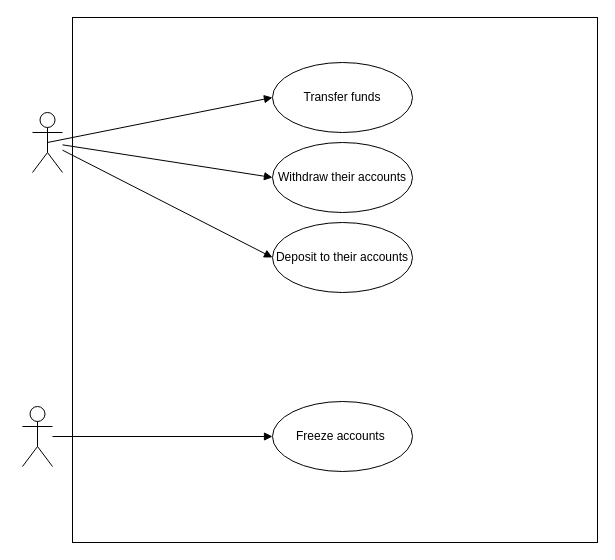
Some shapes in this 615 by 560 pixel diagram are drawn without their labels. The shapes that lost their labels are listed below. From the top down, each one's centre as x and y in pixels, then its label:
[47,142]: Users
[37,436]: Admins
